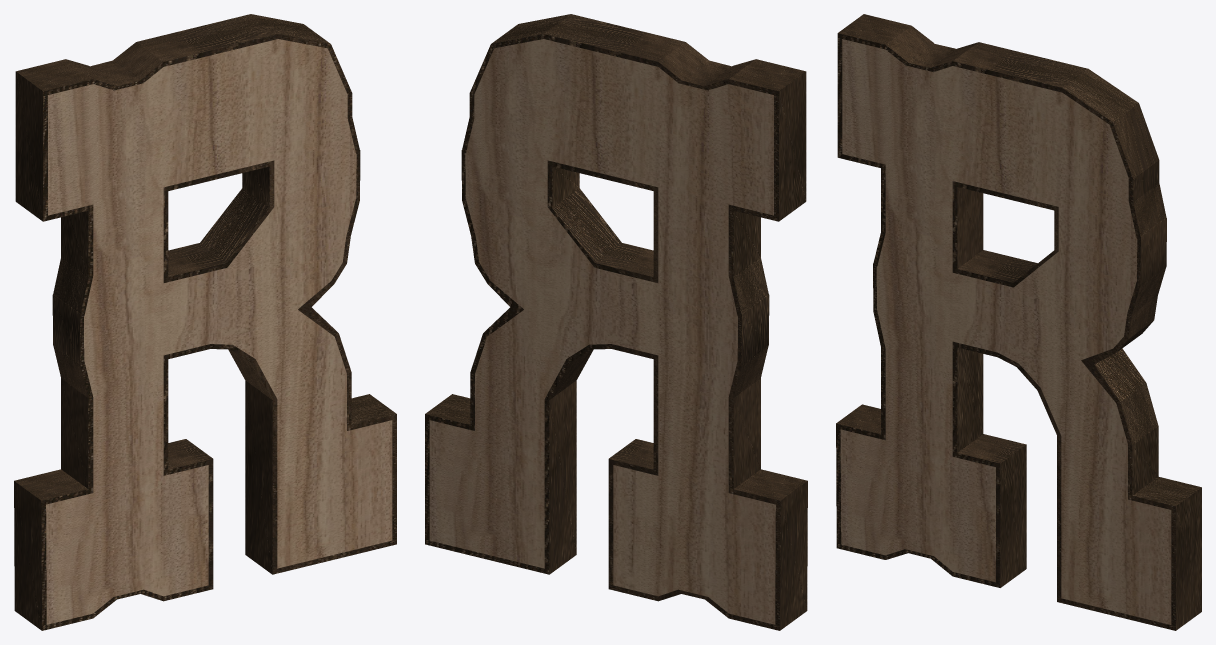
The picture shows the model from 3 angles, left to right: view 1: azimuth 30°, elevation 25°; view 2: azimuth 150°, elevation 25°; view 3: azimuth 330°, elevation 25°; orthographic projection. The views are drawn at different scales.
Parts seen in each view (by area): view 1: R, R_outline; view 2: R, R_outline; view 3: R, R_outline.
Part boxes in pixels (x1,y1,x2,y2): R: [46, 39, 392, 624]; R_outline: [14, 14, 396, 630]; R: [429, 39, 775, 624]; R_outline: [425, 14, 807, 630]; R: [840, 39, 1171, 624]; R_outline: [836, 14, 1201, 630].
Size of the model in its own units: 75.07 by 109 by 10.
2 materials, 2 textured.
